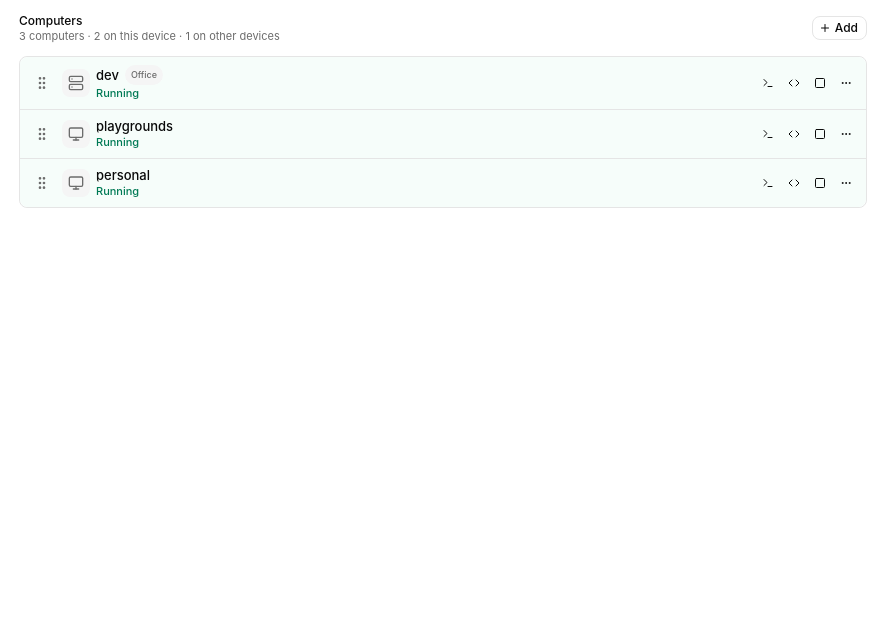
it: hides Storage and SSH access tabs for a remote computer without those capabilities
Step 1. Click the button with aria-label "Open dev" → point(107, 75), box [96, 67, 119, 83]
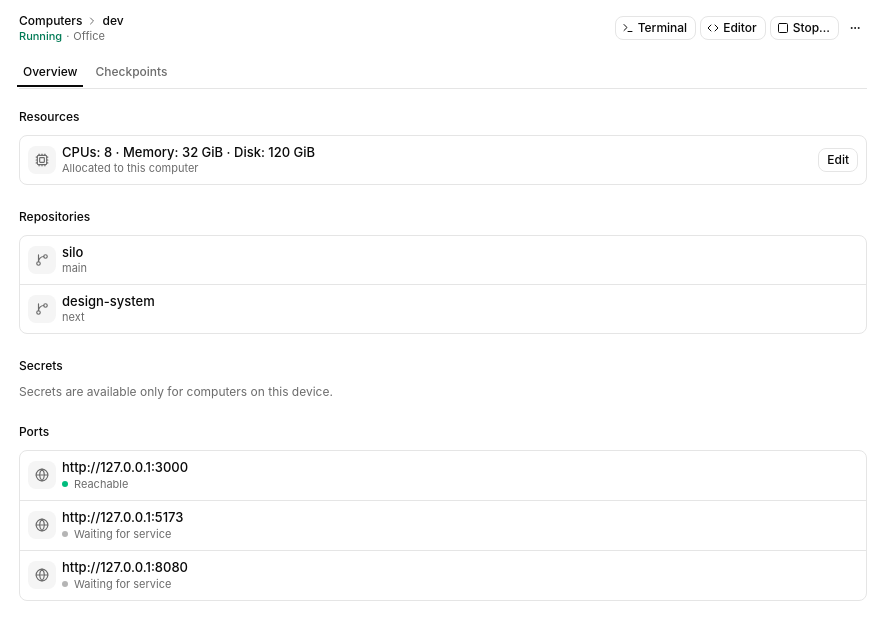
Result: the tabs read "Overview", "Checkpoints", in this order at [16, 59, 84, 84]; [88, 59, 175, 84]
